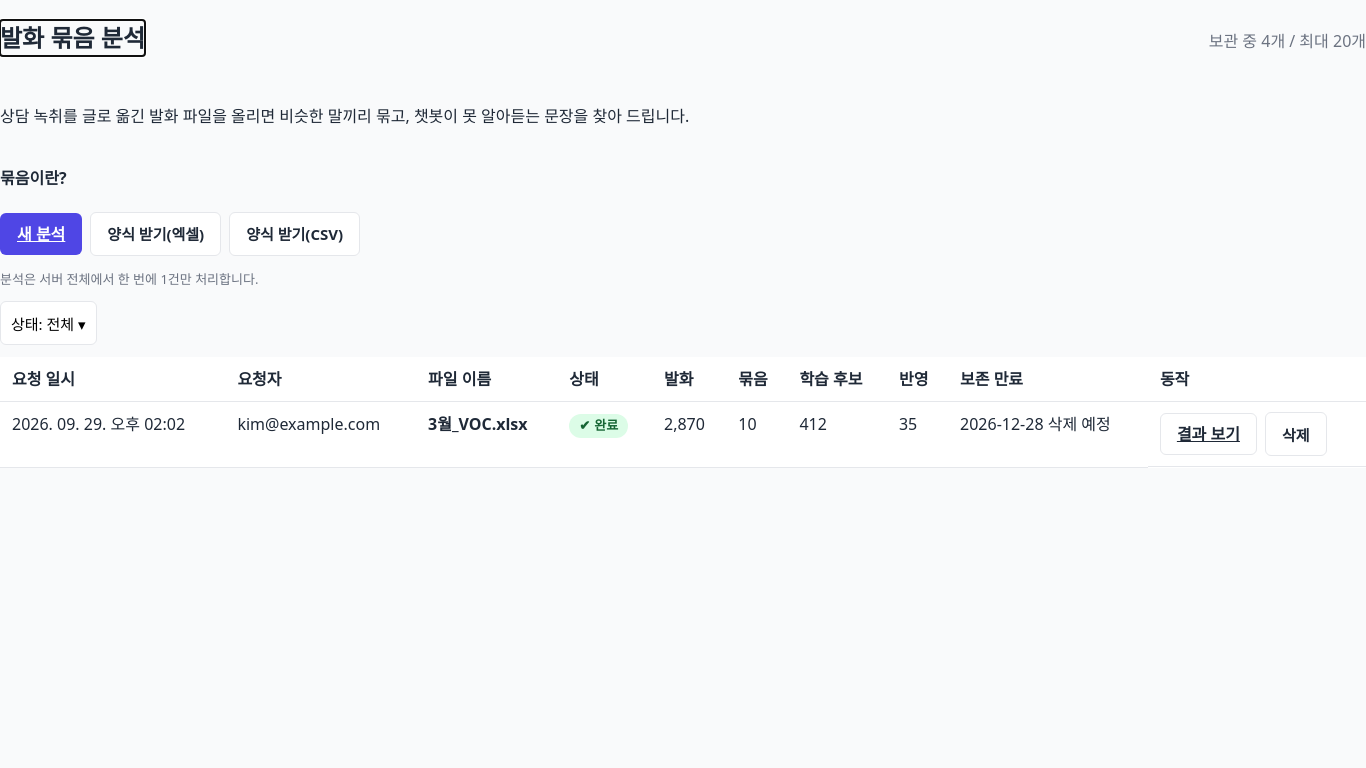
Test case: UtteranceAnalysisListPage — 삭제(UA-3b) › 확인 대화상자 기본 포커스는 취소, 삭제하면 행이 사라지고 토스트가 뜬다
This screenshot has width=1366, height=768.
Click the button with aria-label "3월_VOC.xlsx 삭제" at x=1296, y=434, box x1=1265 y1=412 x2=1326 y2=456
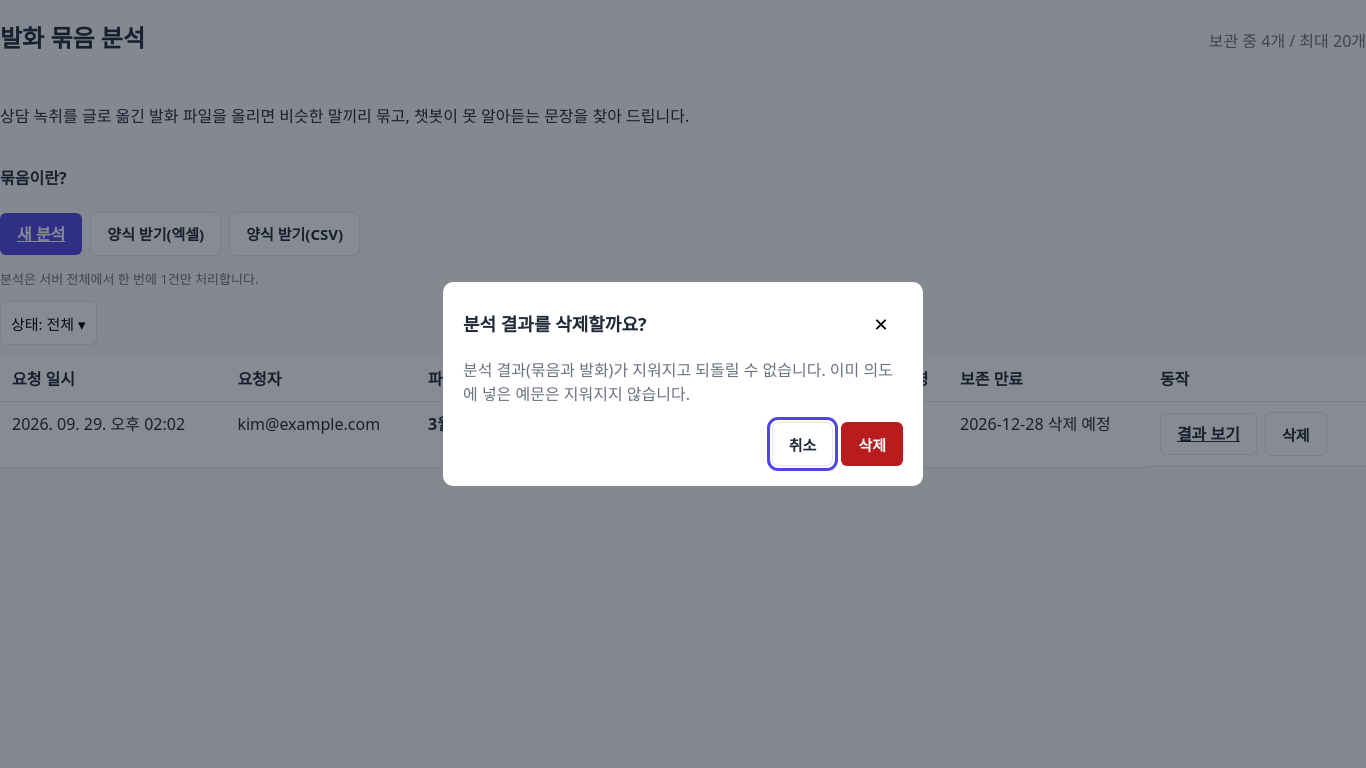
Click the button "삭제" at x=872, y=444, box x1=841 y1=422 x2=903 y2=466
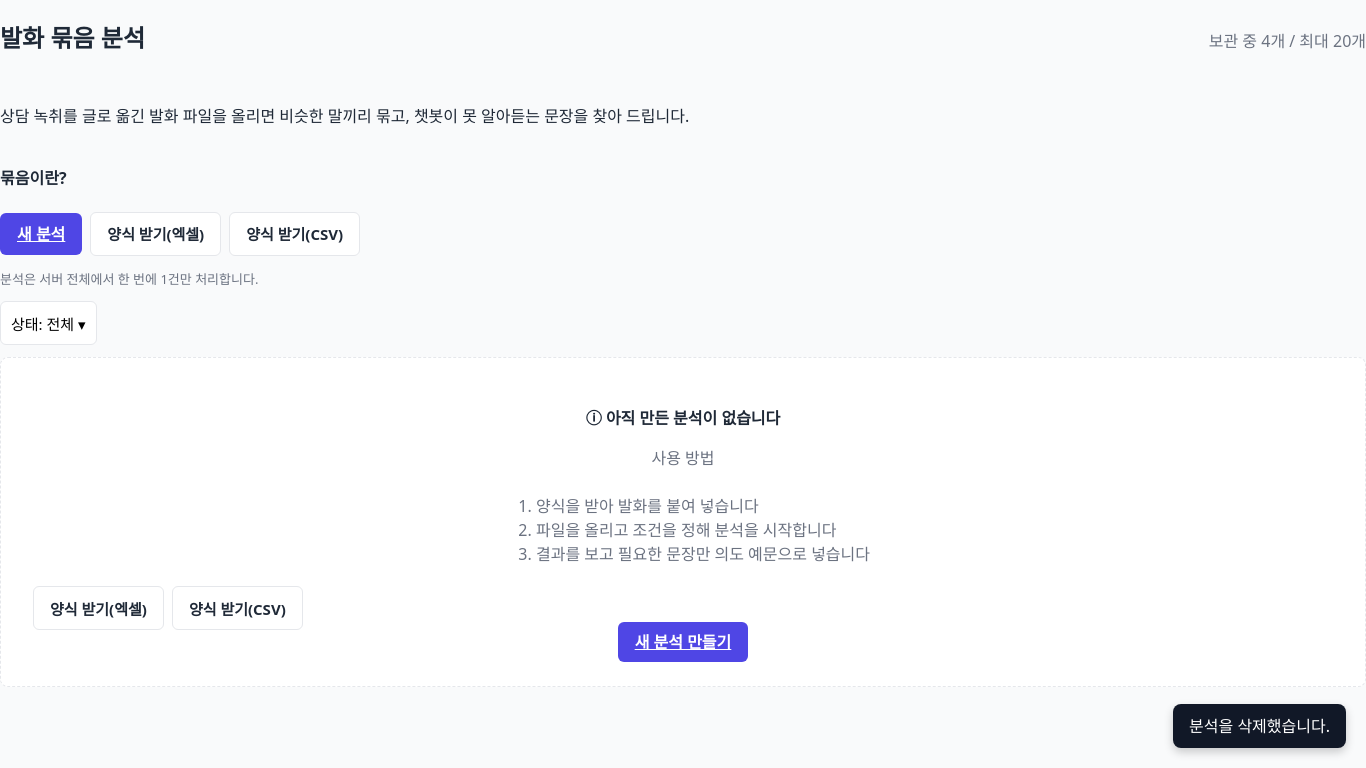
Expected: the dialog is gone
Expected: the column heading "3월_VOC.xlsx" is gone
Expected: the text "분석을 삭제했습니다." is shown, x1=1173 y1=704 x2=1346 y2=748
